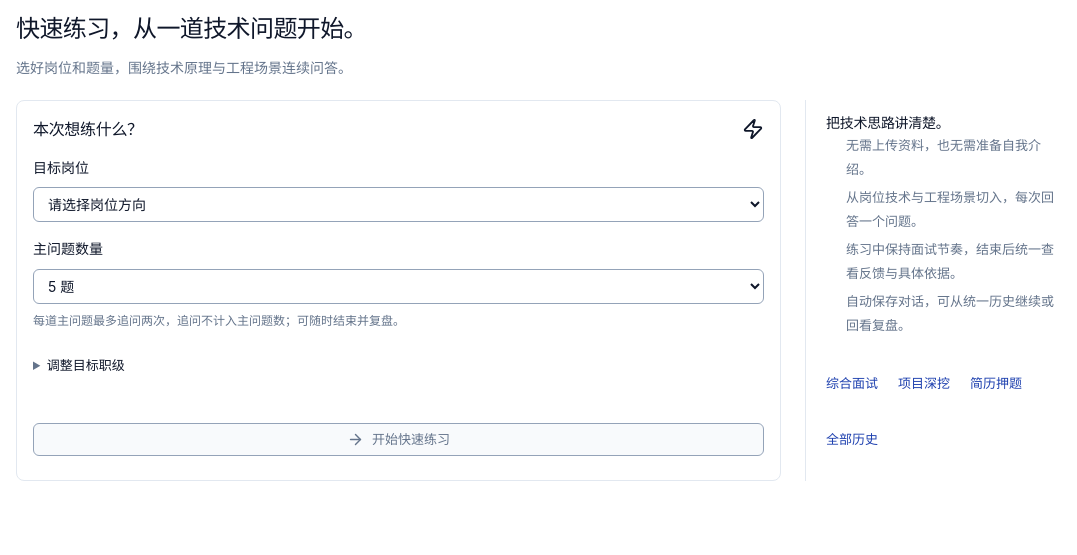
Test case: 创建失败保留配置并明确报错，不能改调旧接口
The width and height of the screenshot is (1077, 555).
Select "Java 后端工程师" in the dropdown labelled "目标岗位" at (398, 205), box x1=33 y1=187 x2=764 y2=222
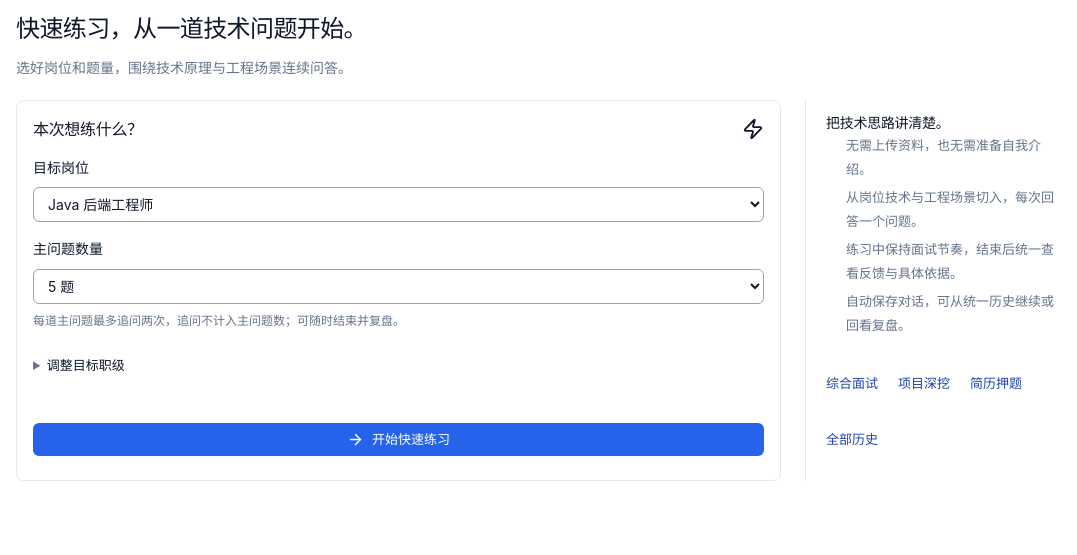
Submit the form, box x1=16 y1=100 x2=781 y2=481
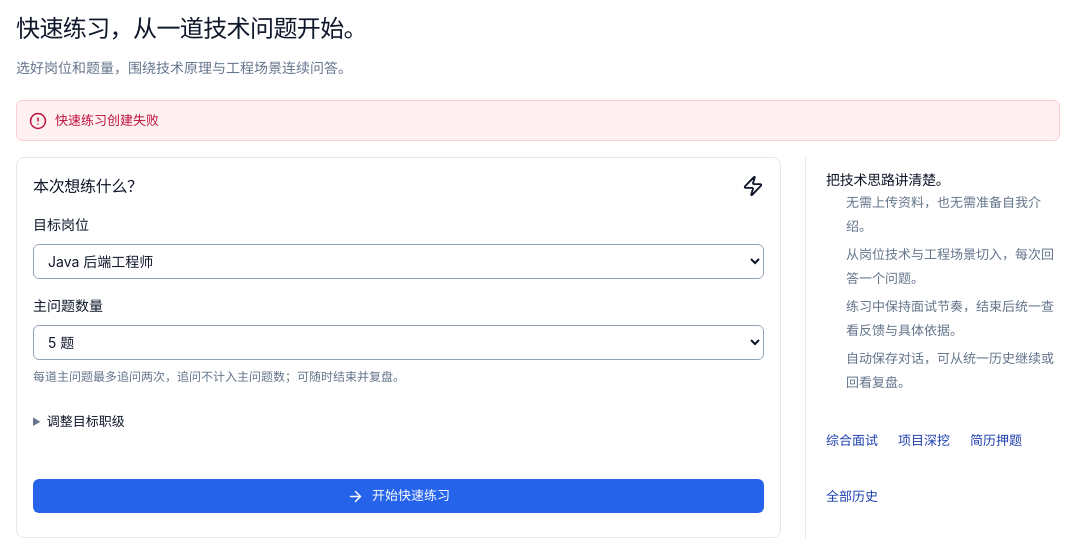
Check: the message "快速练习创建失败" is shown, box x1=16 y1=100 x2=1060 y2=141
